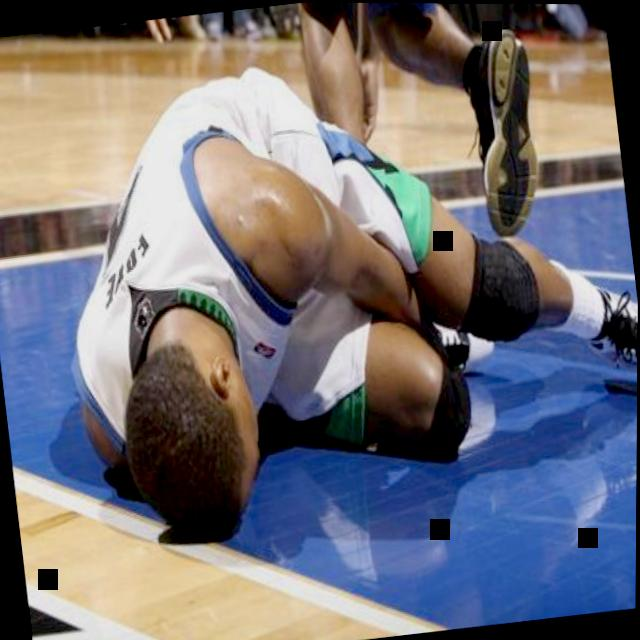Fall-Detected: (32, 0, 640, 567)
